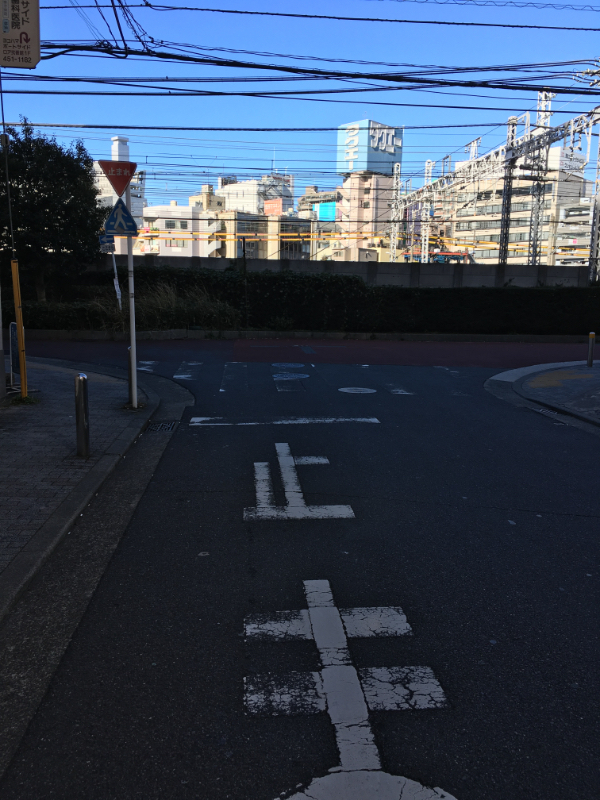STOP: (93, 156, 139, 199)
